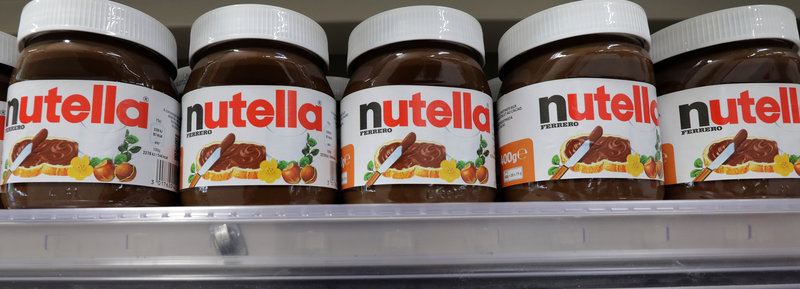nutella: (1, 1, 179, 208), (337, 3, 500, 205), (500, 1, 662, 203), (179, 2, 338, 205), (664, 1, 799, 199)
